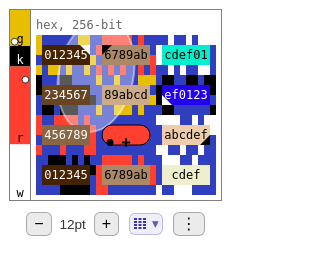
Scenario: Entviz controls — copy menu › menu keyboard: Arrow/Home/End move focus; Escape closes and refocuses the kebab
The width and height of the screenshot is (320, 253).
Click the button named "Actions": x=189, y=224 [173,212,205,236]
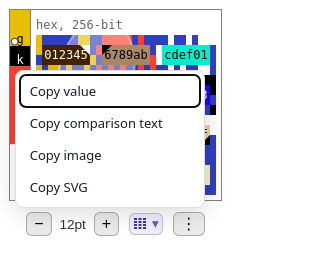
Press ArrowDown in the menu, box [15,70,205,208]
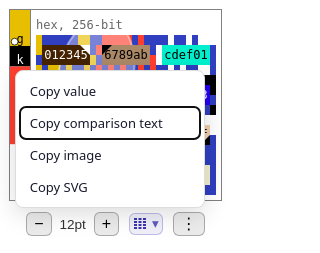
Press ArrowUp in the menu, box [15,70,205,208]
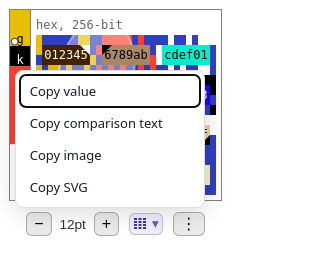
Press End in the menu, box [15,70,205,208]
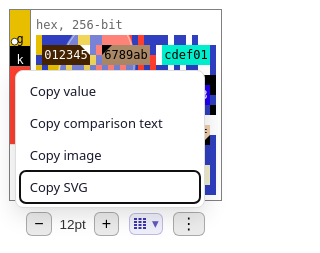
Press Home in the menu, box [15,70,205,208]
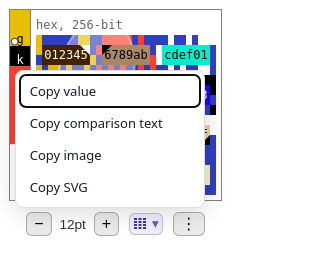
Press x in the menu, box [15,70,205,208]
Press Escape
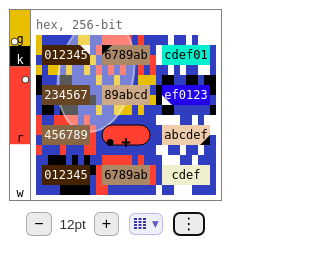
expect the menu is gone: met
